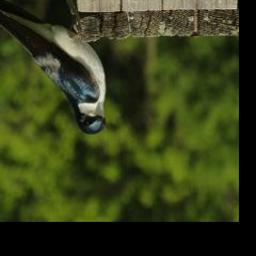Swallow: (0, 0, 108, 137)
